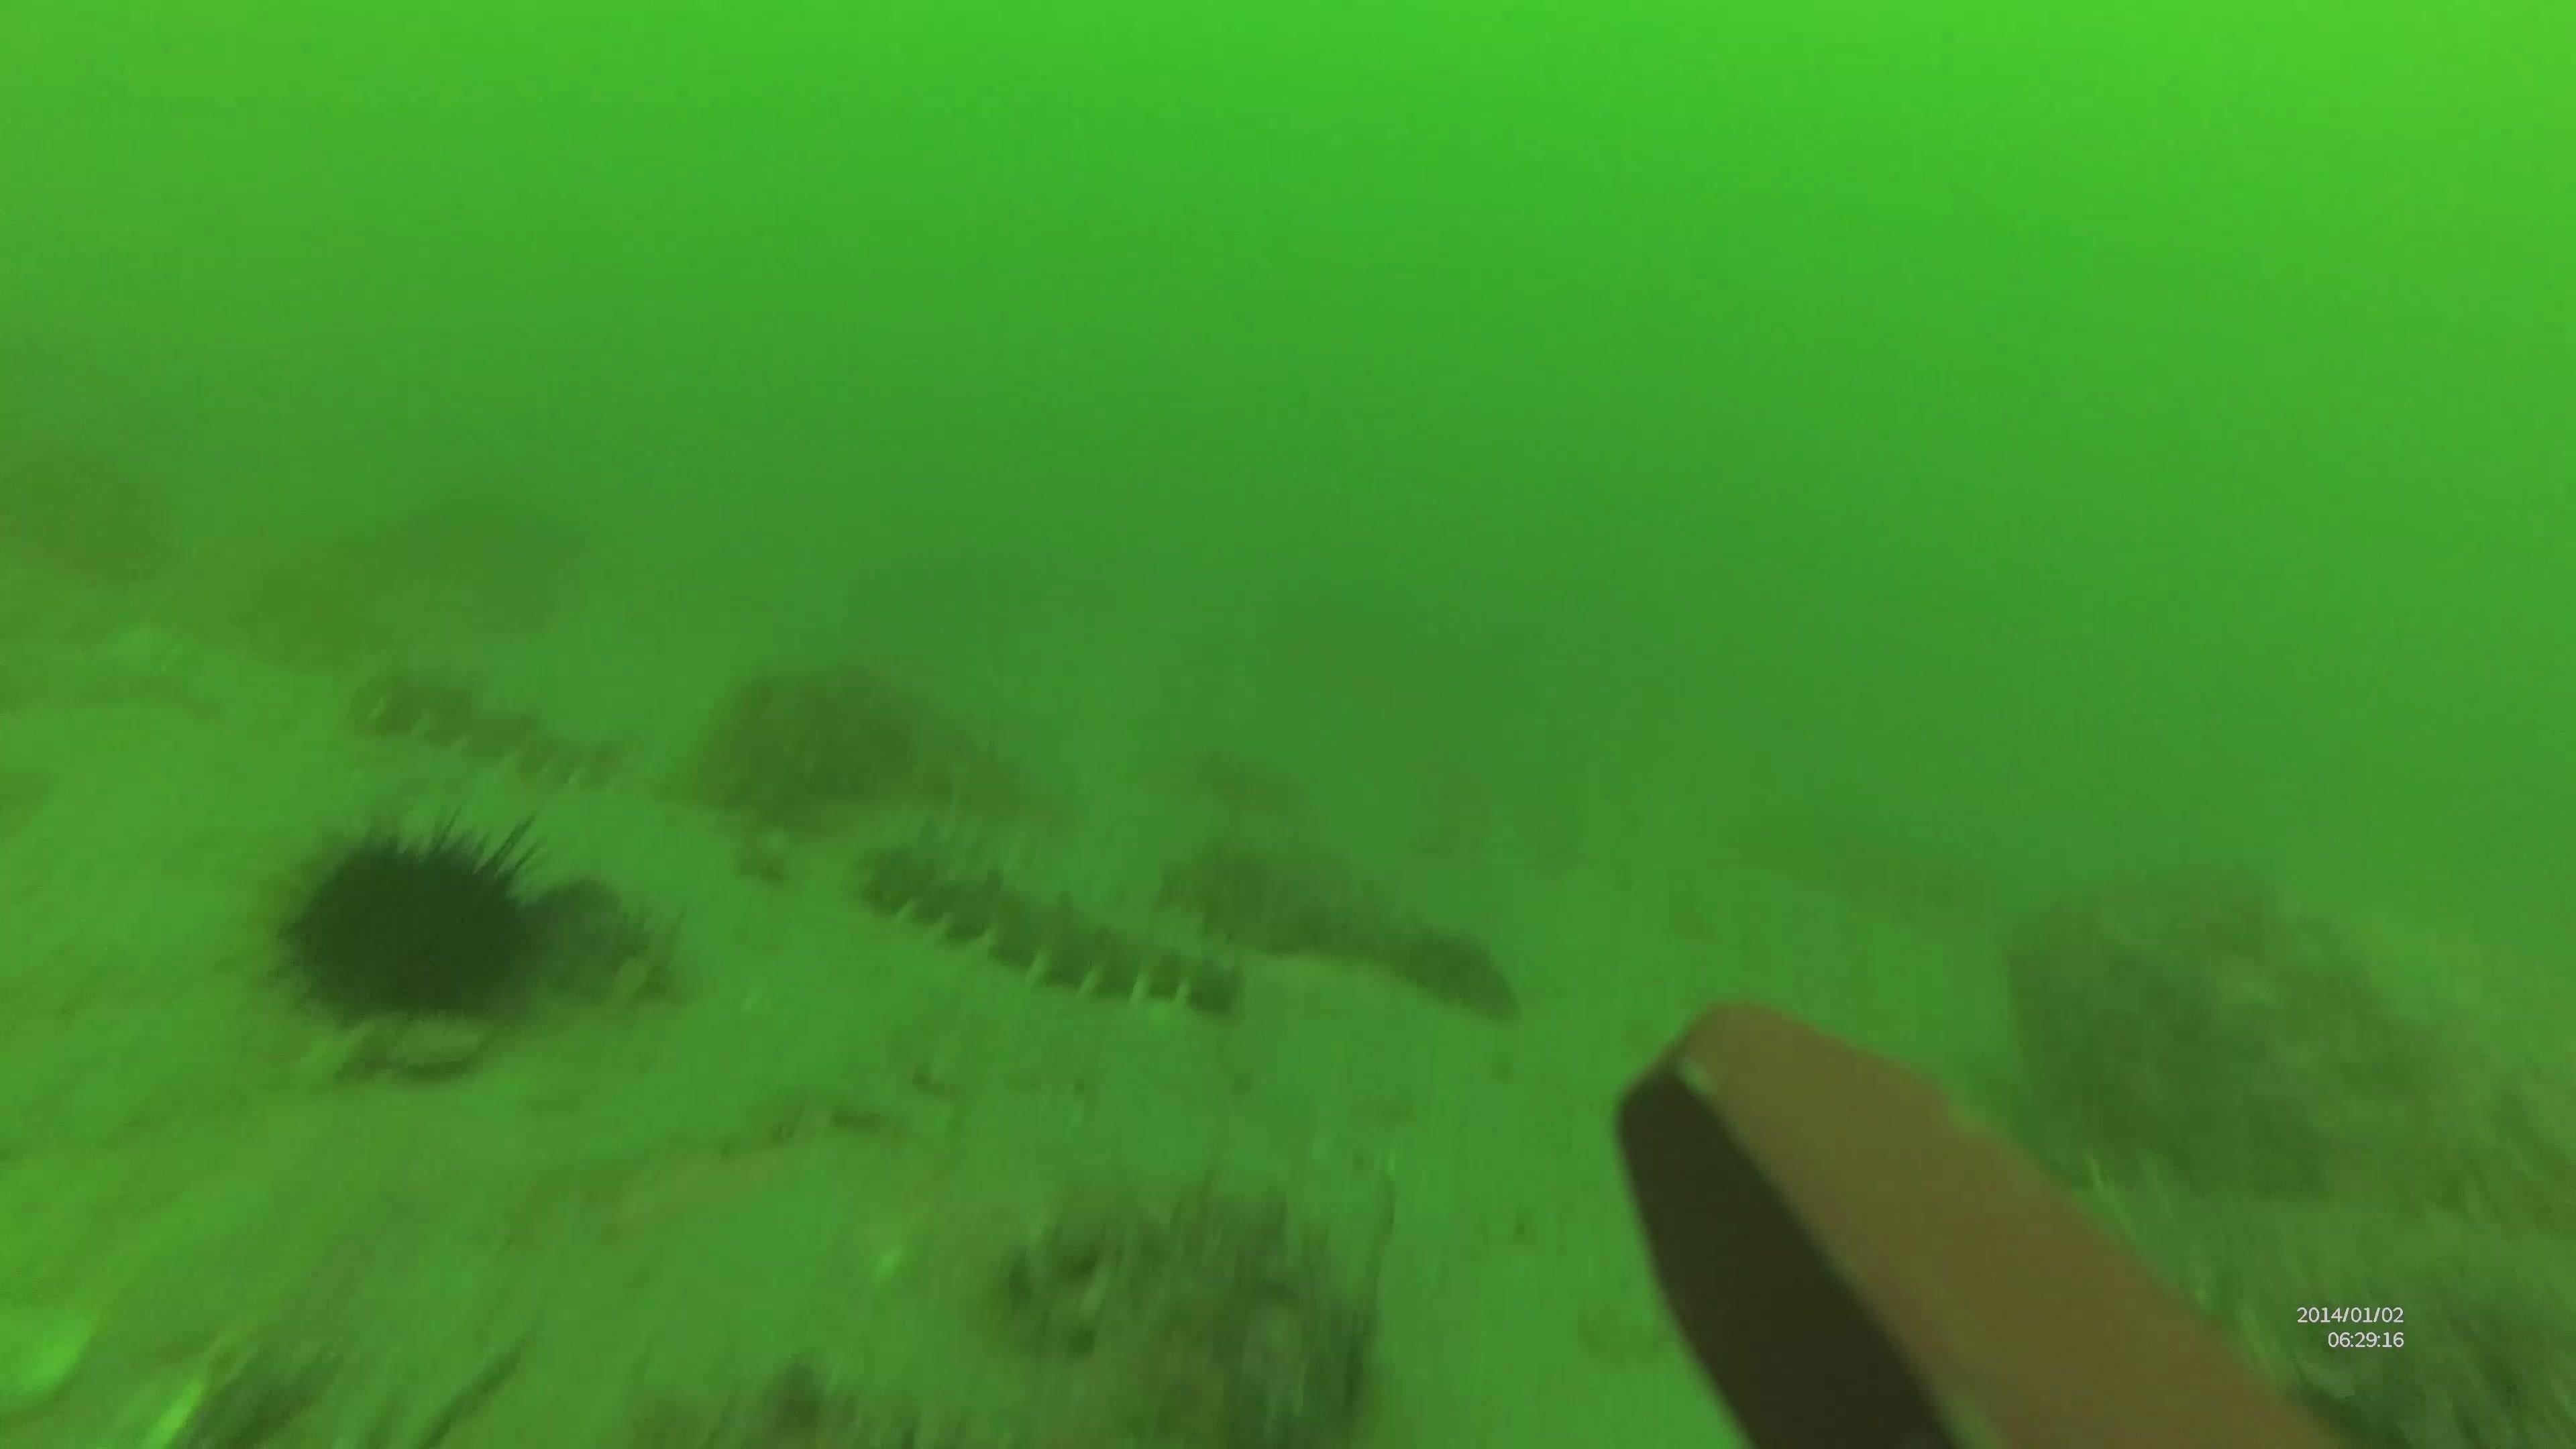echinus: (260, 805, 563, 1039)
holothurian: (856, 826, 1249, 1024), (1161, 824, 1530, 1021), (341, 648, 637, 798)
